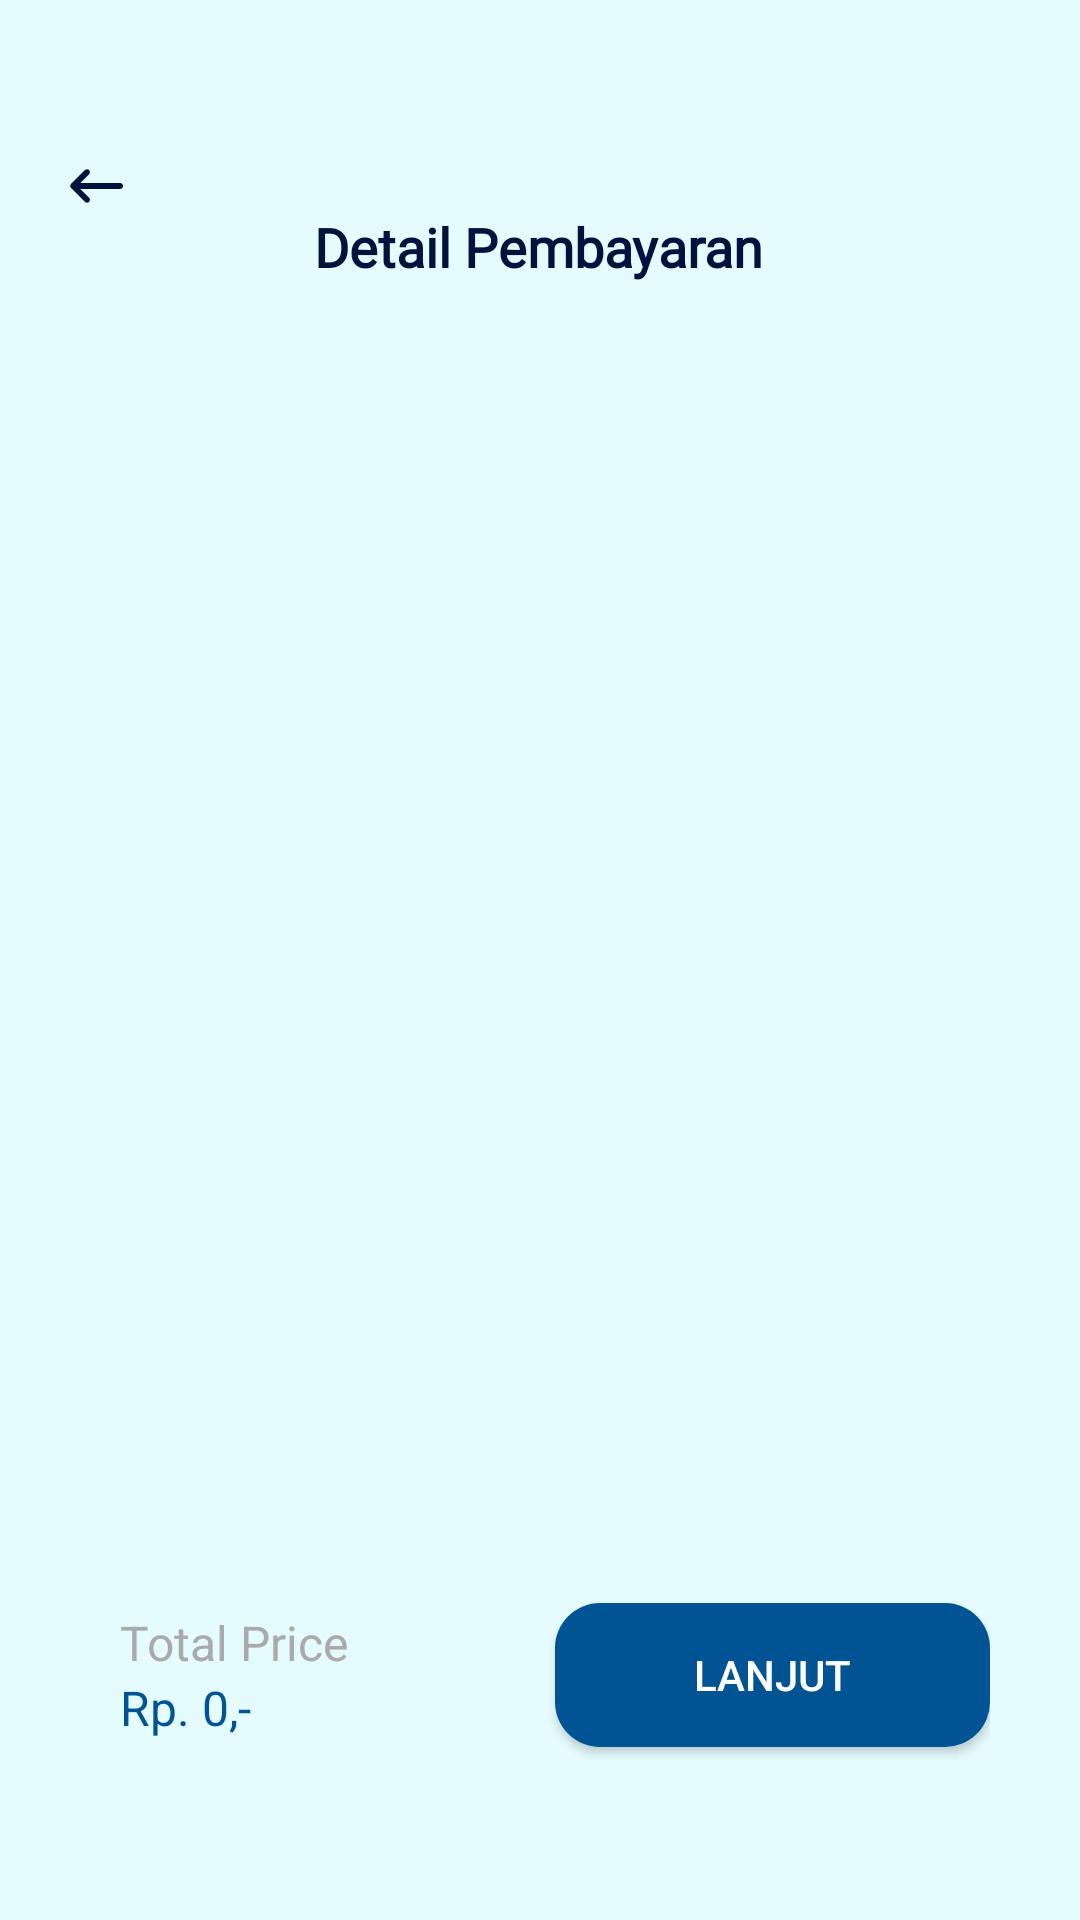

Locate icon controls on the screen. Image size 1080 × 1920, boxes as (x1, y1, x2, y2).
Back: (70, 169, 123, 203)
